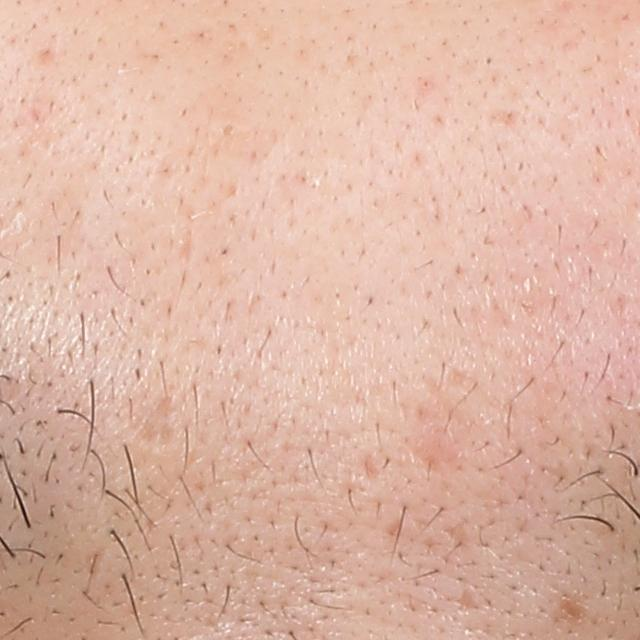atrophic_scar: (136, 393, 179, 449), (362, 448, 378, 479), (455, 589, 477, 610)
comedo: (217, 118, 238, 141)
